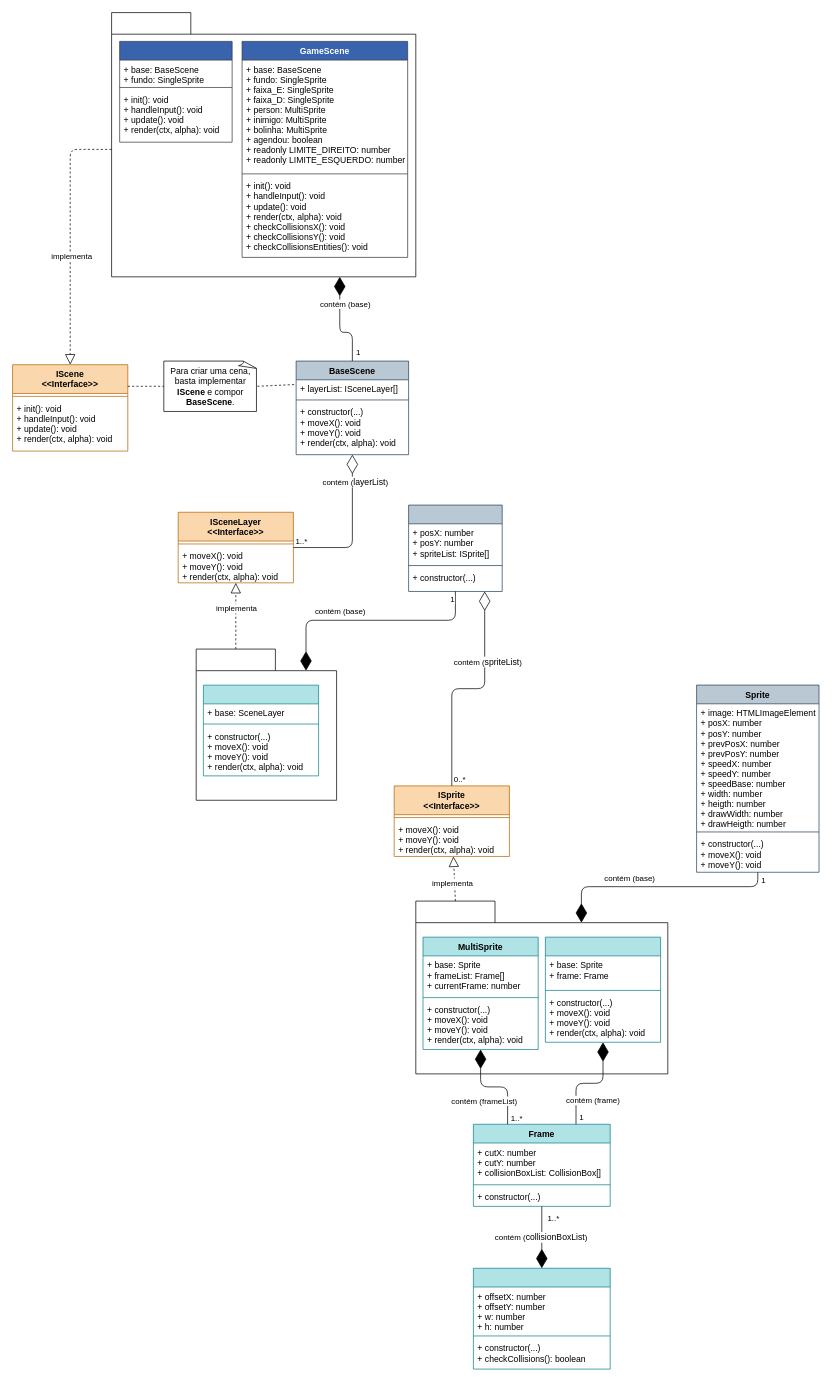
The diagram is 832 pixels wide and 1384 high, and some of its shapes have lost their labels. Here are the shapes that lost their labels. From the top down, the box of each, then its label:
(119, 41, 232, 142): LoadingScene
(408, 504, 502, 591): SceneLayer
(203, 684, 319, 776): SimpleSceneLayer
(545, 936, 661, 1042): SingleSprite
(473, 1268, 610, 1369): CollisionBox
